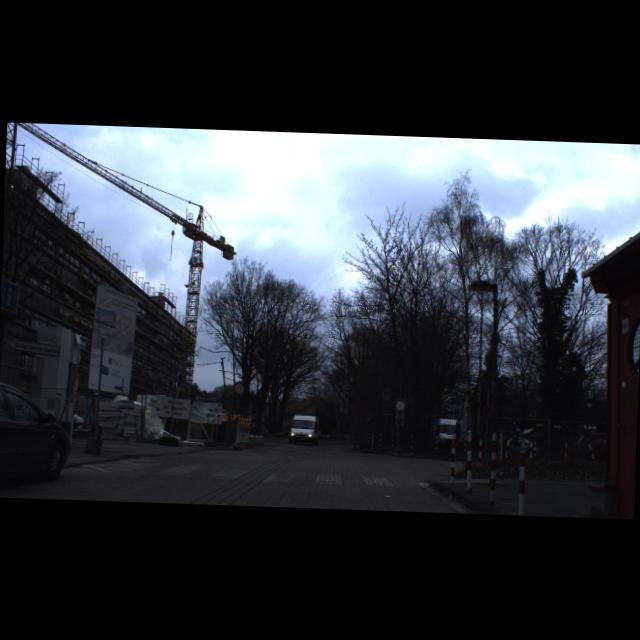prohibitory: (232, 380, 246, 394), (394, 398, 406, 412)
